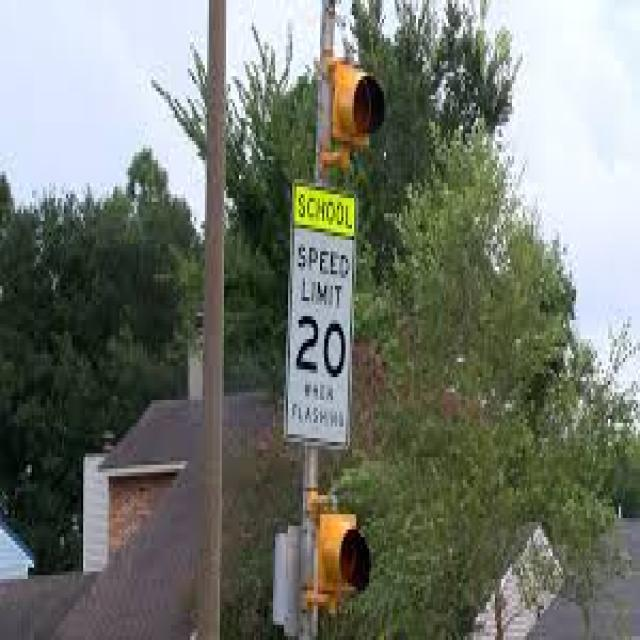speedLimit20: (288, 229, 354, 396)
